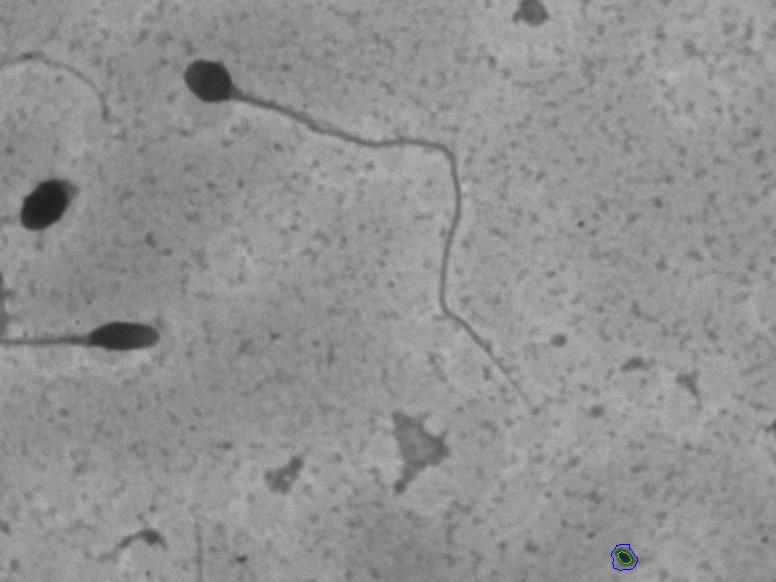Abnormal: (12, 294, 161, 393)
Normal: (177, 50, 567, 387)
